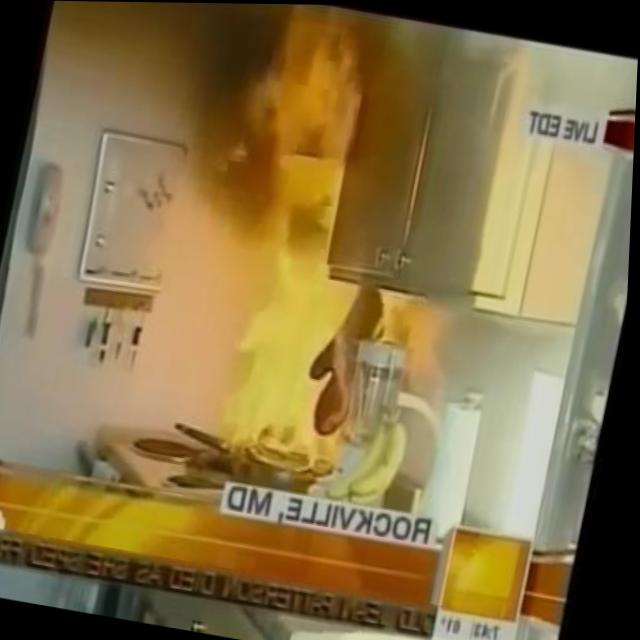fire: (174, 6, 445, 481)
